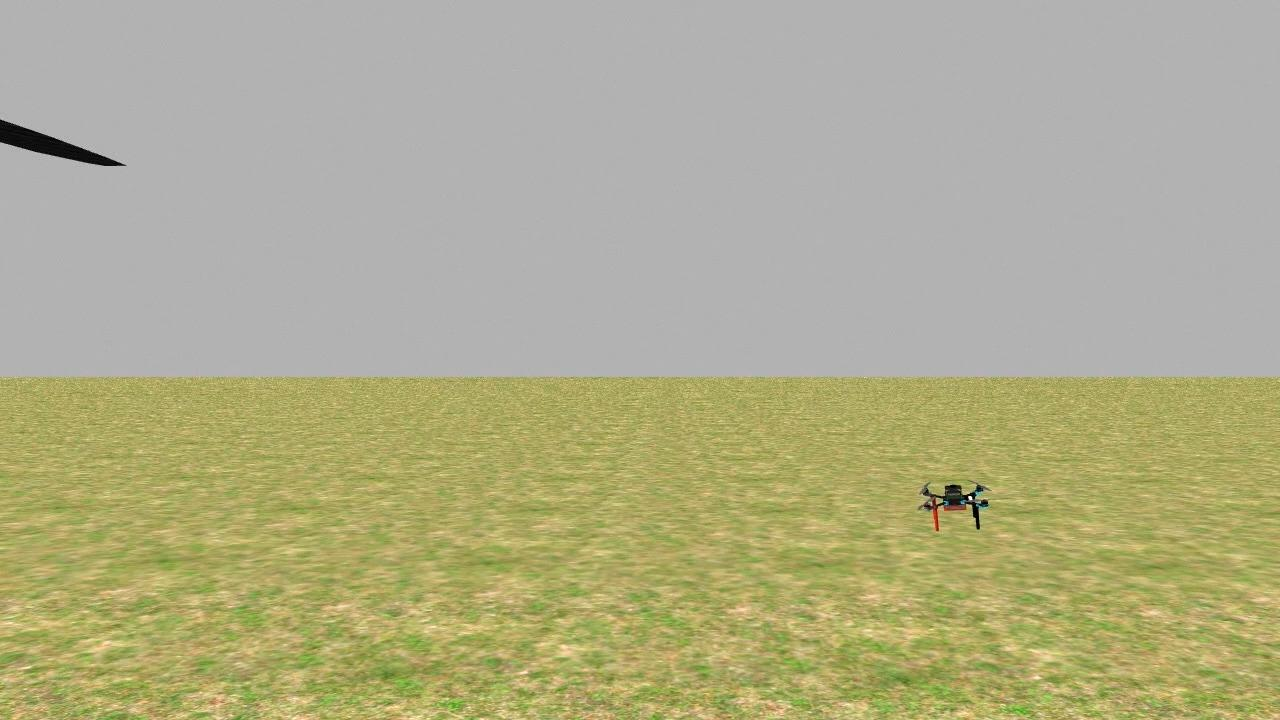UAV: (912, 471, 998, 540)
